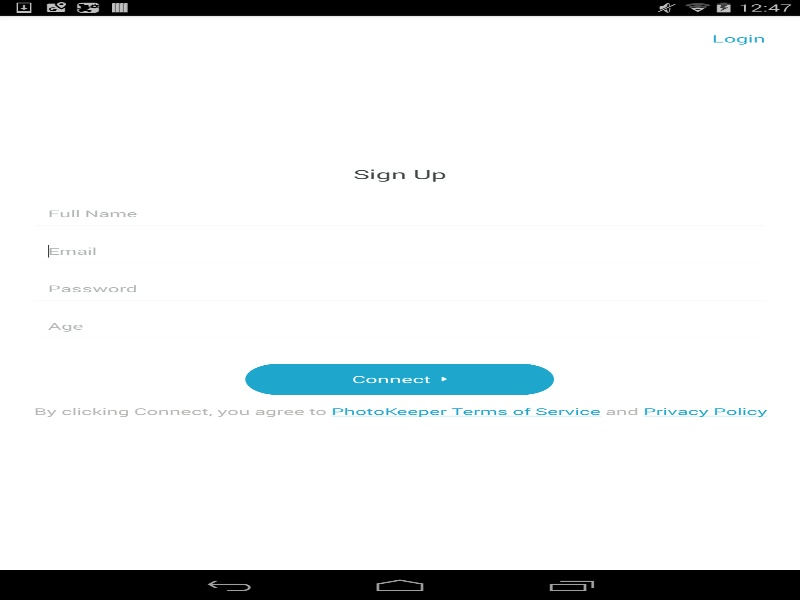Input: (34, 201, 765, 226), (34, 238, 765, 263), (34, 276, 765, 301), (34, 313, 765, 338)
